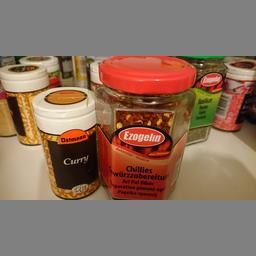spices: (97, 55, 194, 198), (30, 84, 98, 198), (0, 63, 47, 145)
